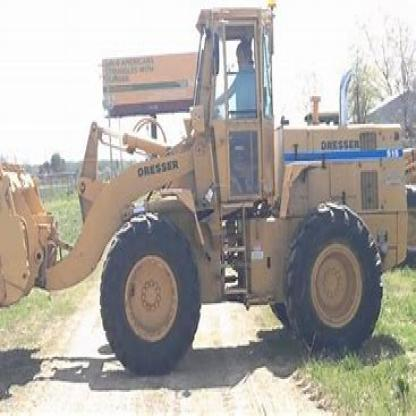bull_dozer/loader/grader: (7, 0, 415, 375)
